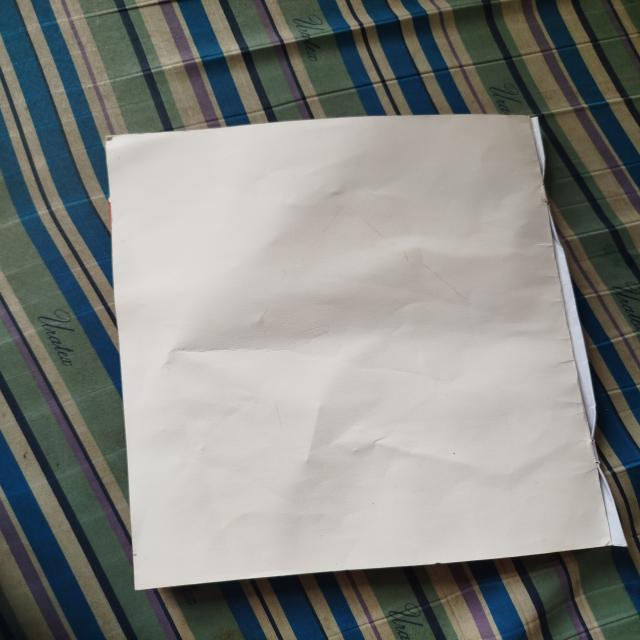paper: (85, 104, 636, 603)
